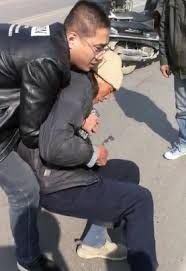fall: (24, 55, 162, 266)
